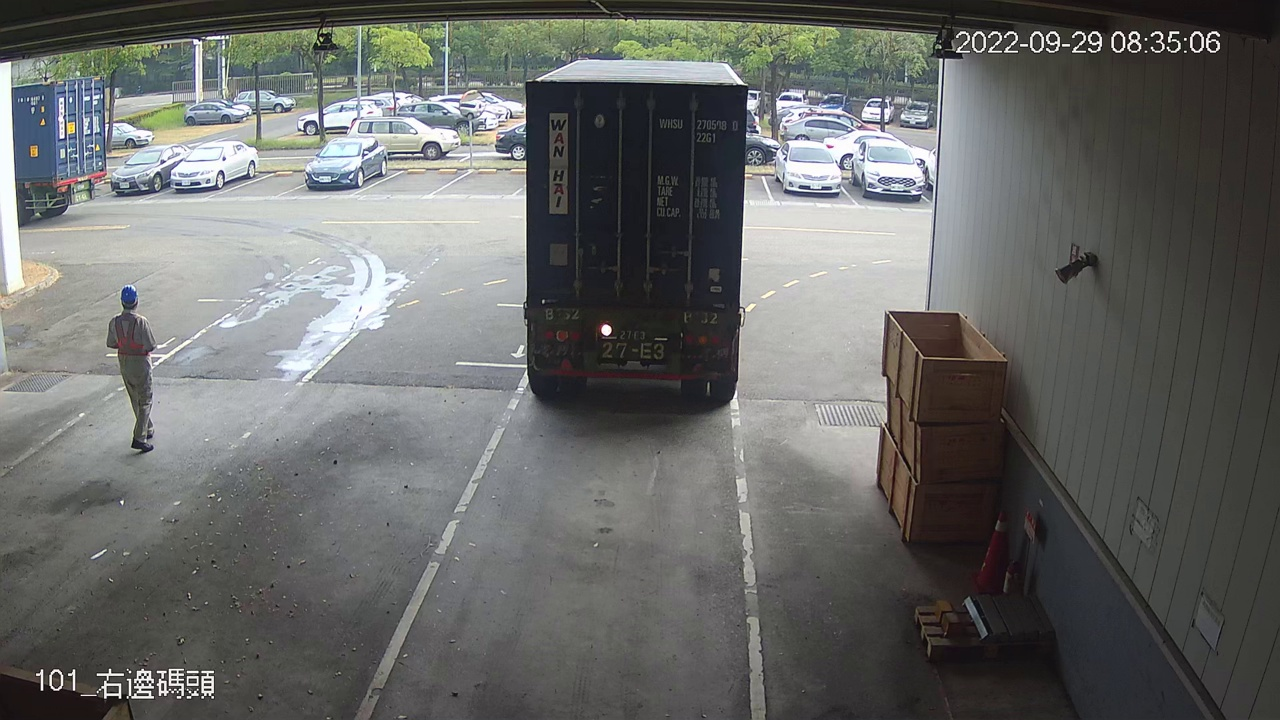container: (652, 111, 743, 148)
